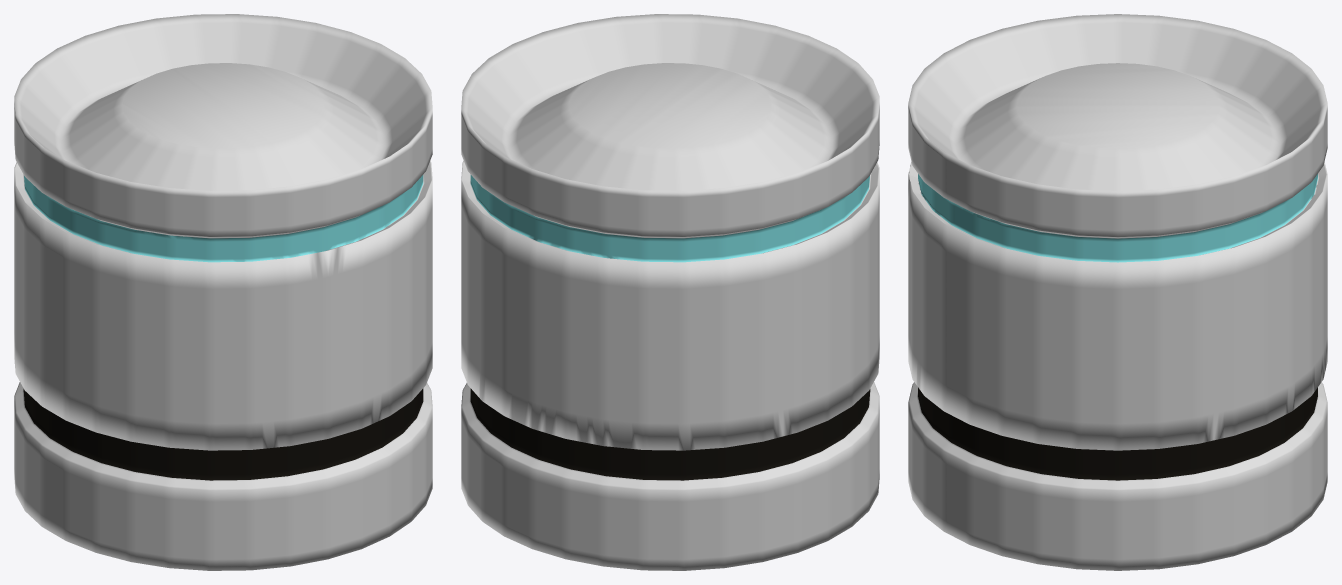
The model's file is Proto3-1.glb.
3 renders of one model, left to right at view 1: azimuth 30°, elevation 25°; view 2: azimuth 150°, elevation 25°; view 3: azimuth 270°, elevation 25°, orthographic.
Parts seen in each view (by area): view 1: Cylindre.001; view 2: Cylindre.001; view 3: Cylindre.001.
Boxes of the visible parts, x1,y1,x2,y2 form: Cylindre.001: [14, 14, 432, 570]; Cylindre.001: [461, 14, 879, 570]; Cylindre.001: [908, 14, 1327, 570].
Size of the model in its own units: 1.66 by 1.66 by 1.66.
